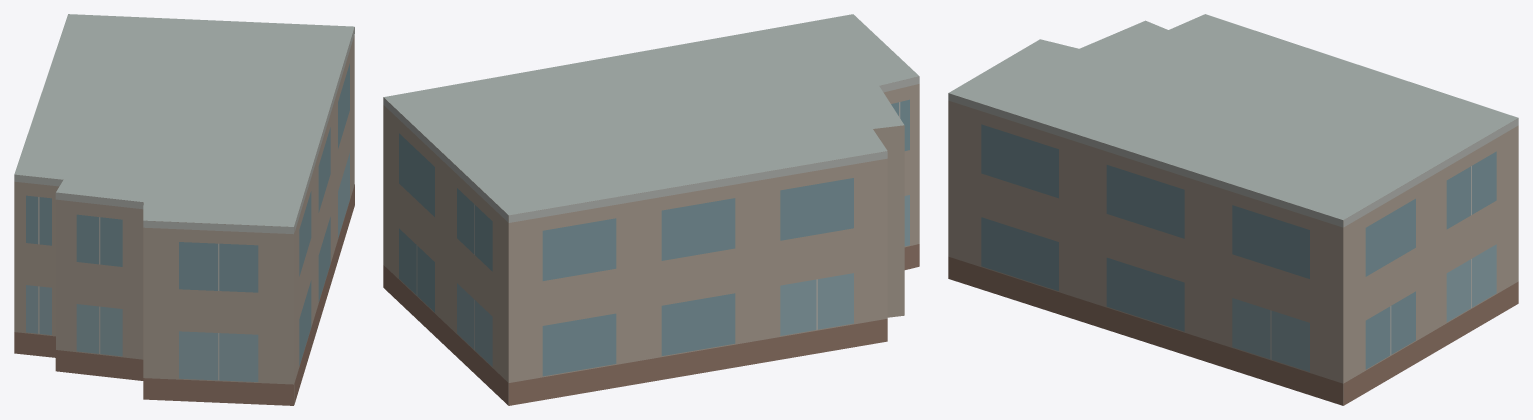
File: survey-upis-32657475.glb
3 renders of one model, left to right at view 1: azimuth 30°, elevation 25°; view 2: azimuth 150°, elevation 25°; view 3: azimuth 270°, elevation 25°, orthographic. The views are drawn at different scales.
Parts seen in each view (by area): view 1: survey-upis-32657475.tmp; view 2: survey-upis-32657475.tmp; view 3: survey-upis-32657475.tmp.
Part boxes in pixels (<box>): survey-upis-32657475.tmp: <box>14,14,354,405</box>; survey-upis-32657475.tmp: <box>383,14,919,405</box>; survey-upis-32657475.tmp: <box>948,14,1518,405</box>.
Bounding box in the file's own units: 14.54 × 6.1 × 16.99.
